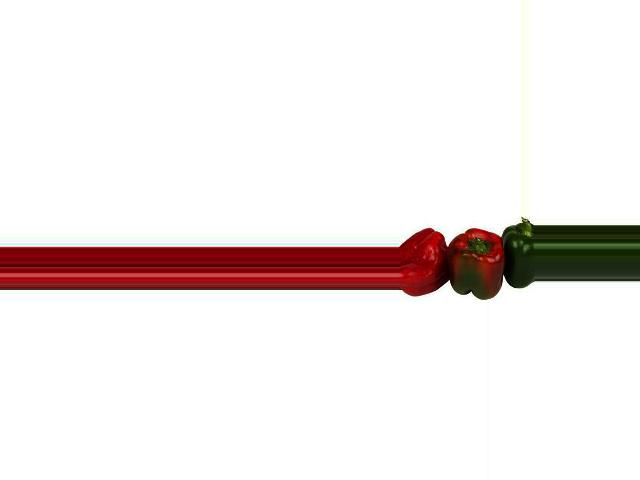bell_pepper: (399, 222, 450, 299)
